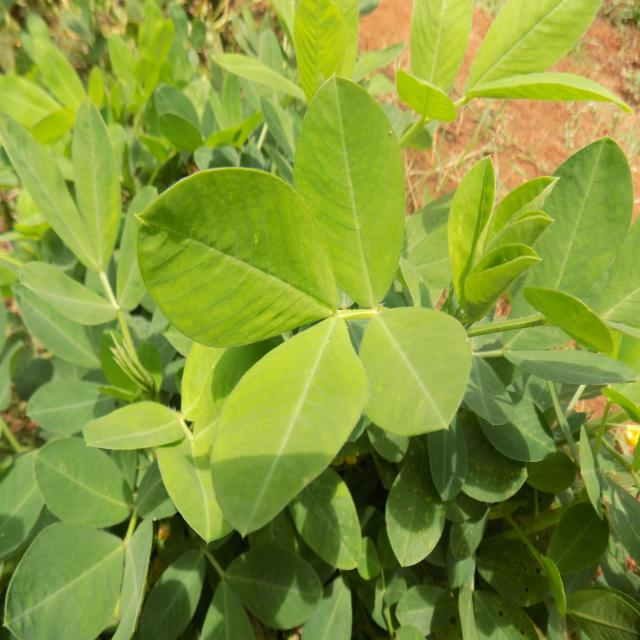Ground nut_healthy: (134, 166, 345, 351), (214, 316, 360, 522), (298, 65, 404, 315), (537, 135, 635, 336), (0, 519, 128, 637), (355, 308, 470, 432), (387, 433, 446, 565), (75, 108, 119, 278), (35, 439, 130, 515), (445, 160, 495, 284)
